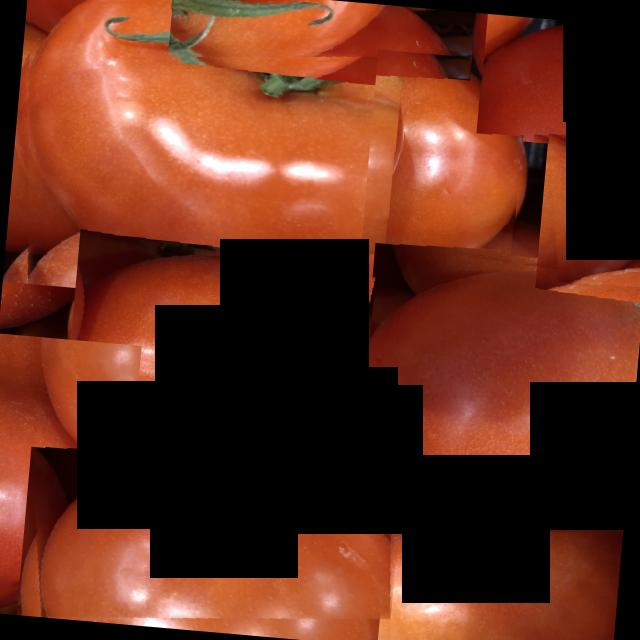tomatoes: (2, 0, 408, 314), (354, 243, 640, 542), (61, 229, 391, 472), (16, 448, 402, 640), (358, 49, 530, 294), (0, 333, 141, 623), (376, 490, 624, 640), (166, 0, 475, 83), (476, 13, 640, 152), (535, 133, 640, 289)
